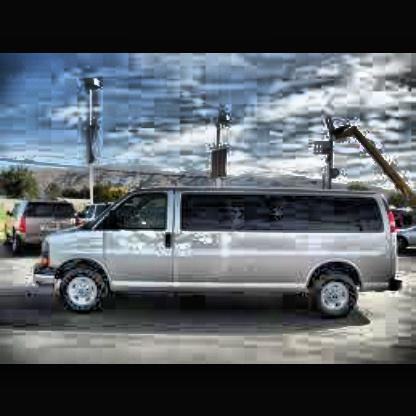GMC Savana Van 2012: (37, 188, 406, 322)
